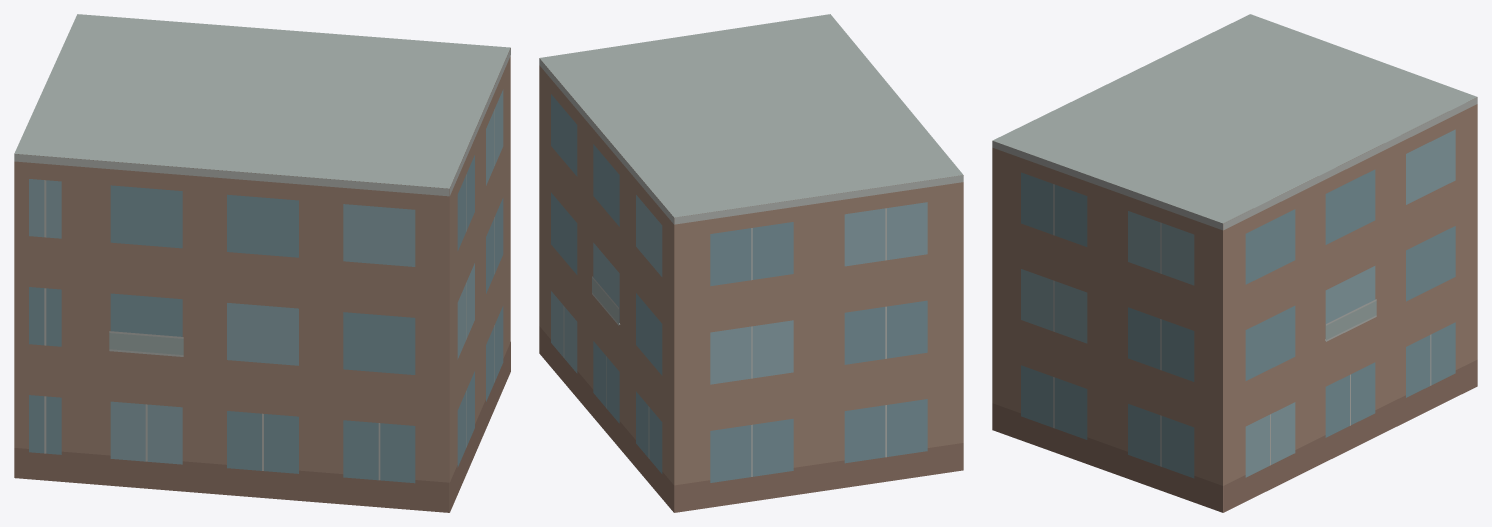
The model's file is survey-upis-32705864.glb.
3 renders of one model, left to right at view 1: azimuth 30°, elevation 25°; view 2: azimuth 150°, elevation 25°; view 3: azimuth 270°, elevation 25°, orthographic. The views are drawn at different scales.
Visible parts, largest first — view 1: survey-upis-32705864.tmp; view 2: survey-upis-32705864.tmp; view 3: survey-upis-32705864.tmp.
Part boxes in pixels (bbox=[...]): survey-upis-32705864.tmp: bbox=[14, 14, 510, 512]; survey-upis-32705864.tmp: bbox=[539, 14, 963, 512]; survey-upis-32705864.tmp: bbox=[992, 14, 1477, 512].
Bounding box in the file's own units: 15.85 × 10.2 × 15.52.
